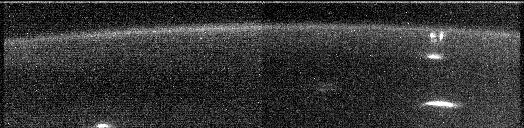positive: (427, 28, 445, 48)
